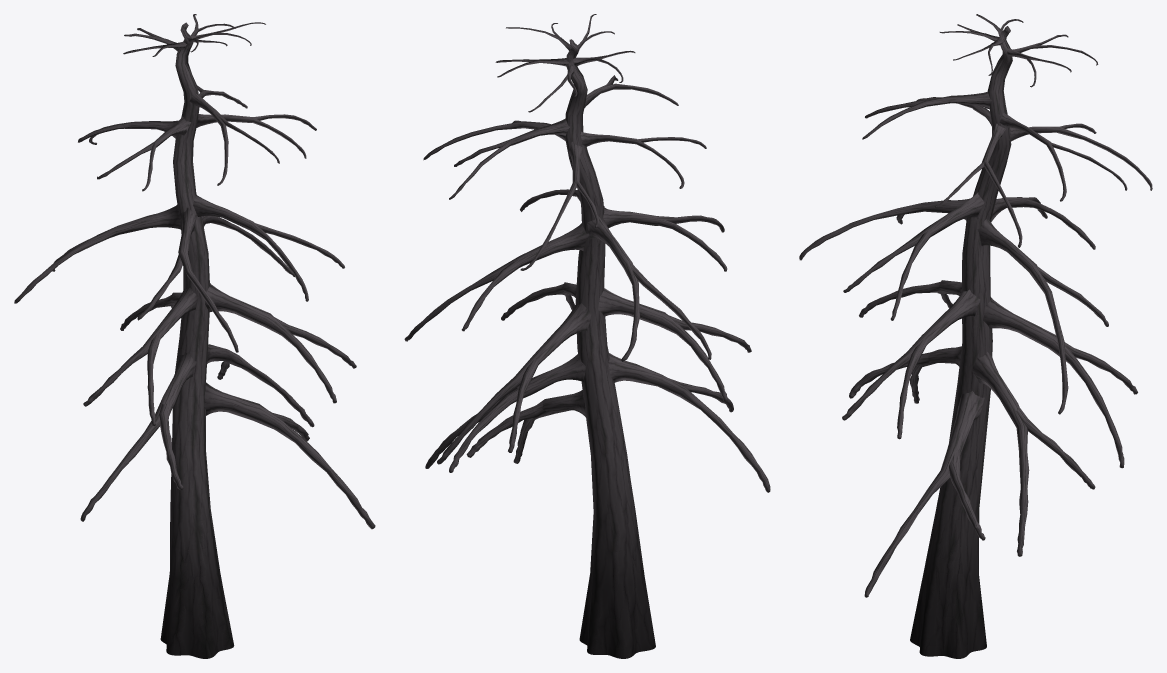
Rendered from nat_deadtree_5.glb.
3 renders of one model, left to right at view 1: azimuth 30°, elevation 25°; view 2: azimuth 150°, elevation 25°; view 3: azimuth 270°, elevation 25°, orthographic. The views are drawn at different scales.
Visible parts, largest first — view 1: DeadTree_5; view 2: DeadTree_5; view 3: DeadTree_5.
Boxes of the visible parts, x1,y1,x2,y2 form: DeadTree_5: (14,14,375,658); DeadTree_5: (404,14,770,658); DeadTree_5: (799,14,1152,658).
Size of the model in its own units: 8.36 by 16.44 by 8.41.
Materials: 1 (1 with a texture image).
